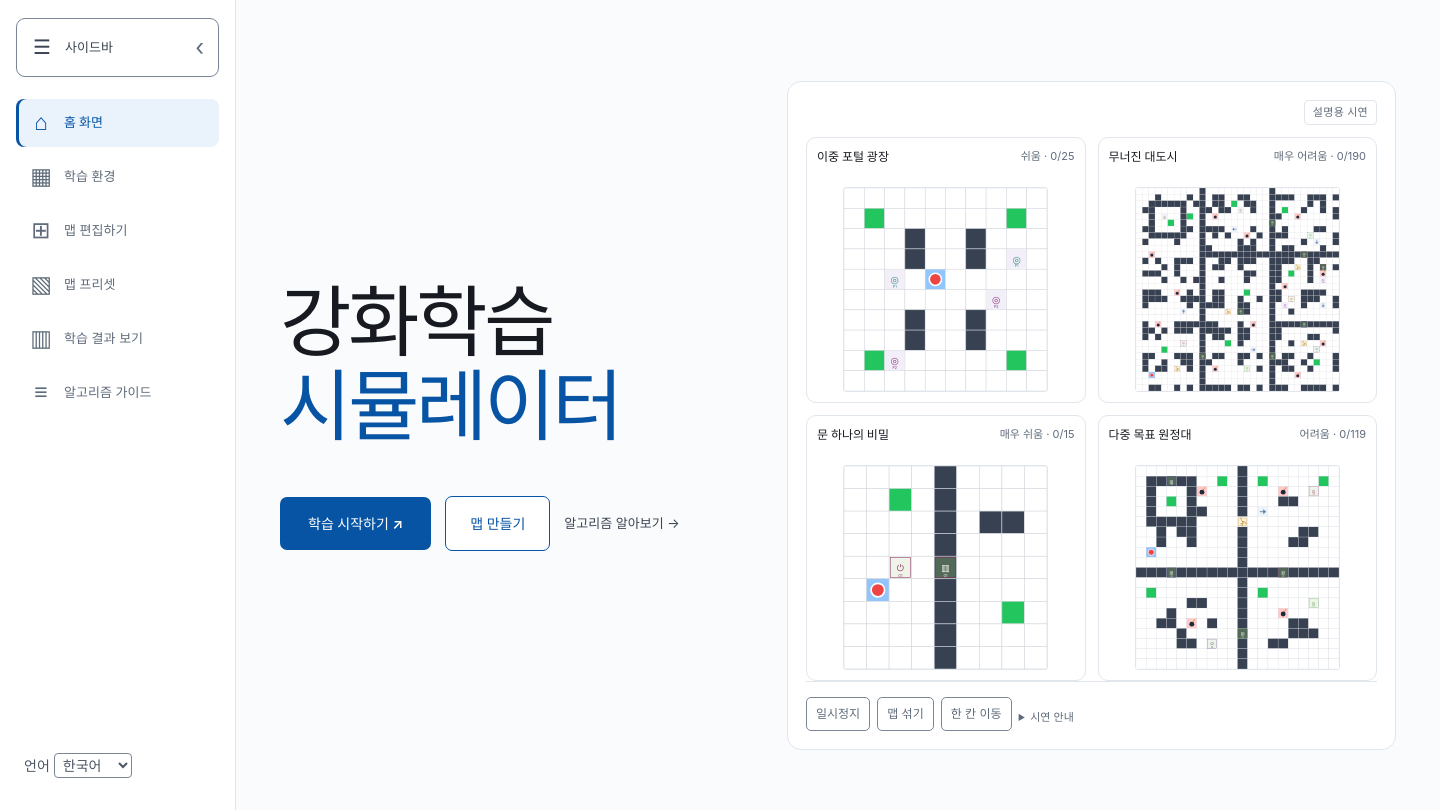
training-complete toast › Turbo Training completes with the same toast and Run policy leaves the Turbo dashboard for the grid
The width and height of the screenshot is (1440, 810).
Click the button with test id "nav-environment".
click(118, 176)  # box [16,152,219,200]
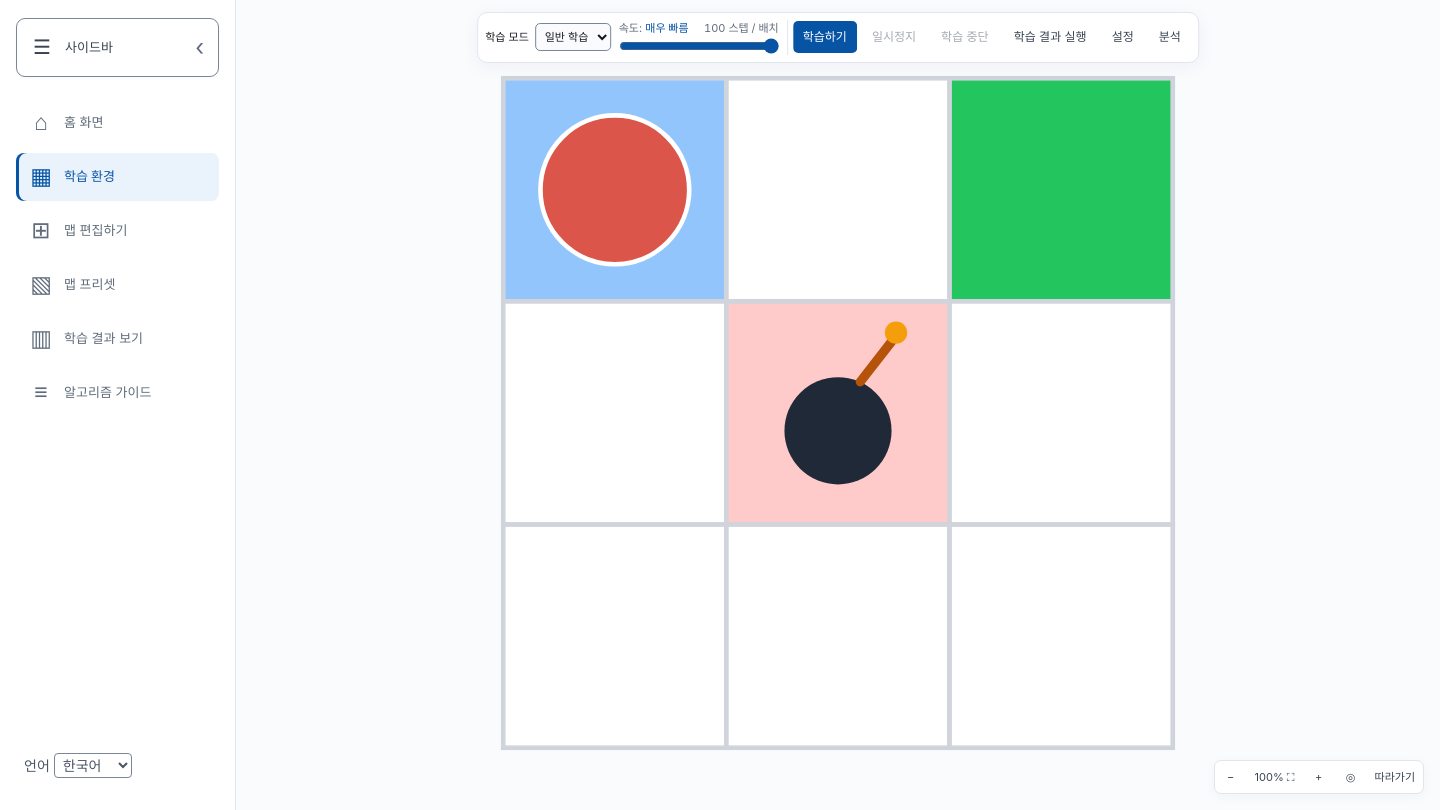
Select "고속 학습" in the dropdown with test id "training-mode" showing "학습 모드" at coordinates (573, 37), box [535,23,611,51]
Wait 4000 ms
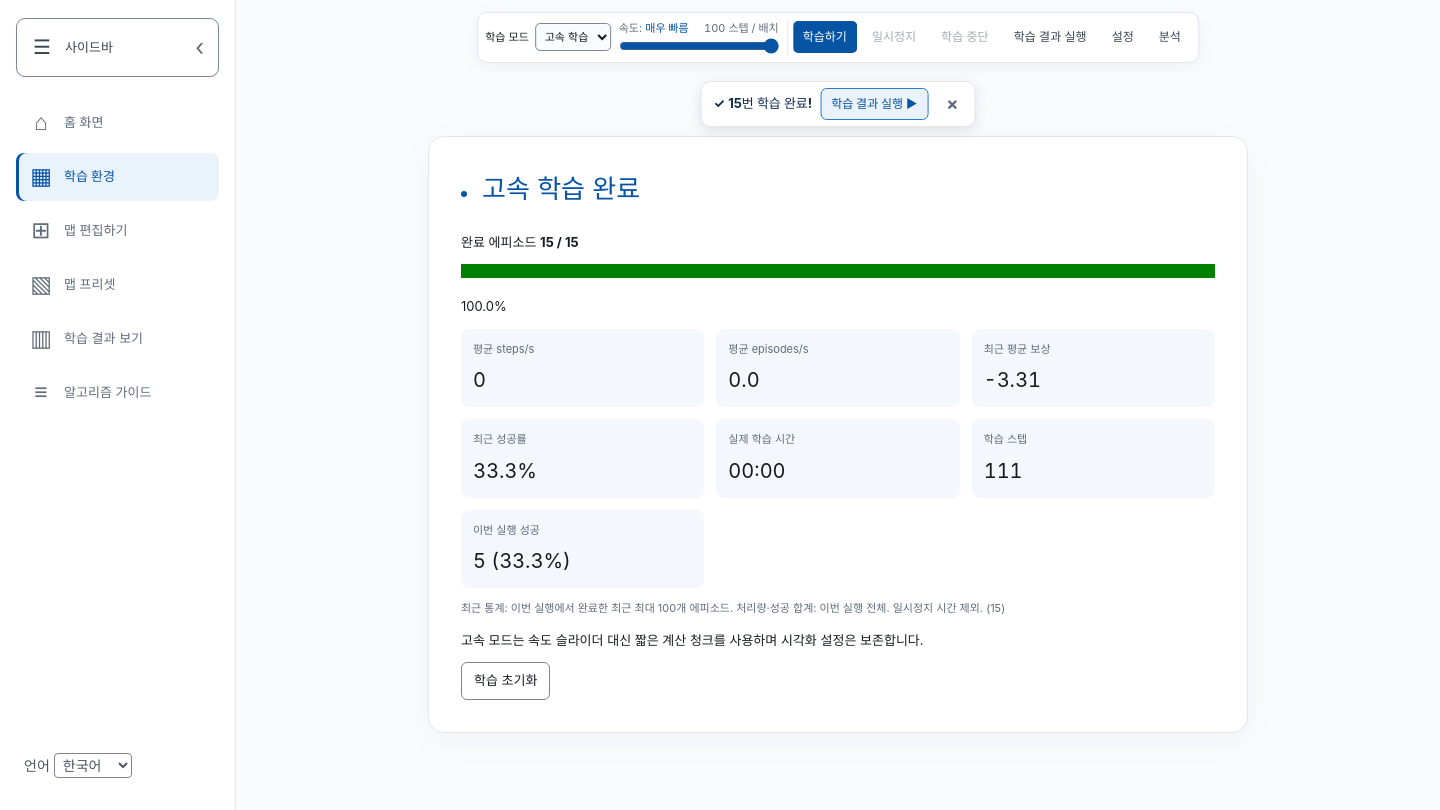
Expected: the text with test id "completion-message" reads "15번 학습 완료!", [728,95,812,111]
Click the button with test id "completion-run-policy".
click(874, 104)  # box [820,88,928,120]
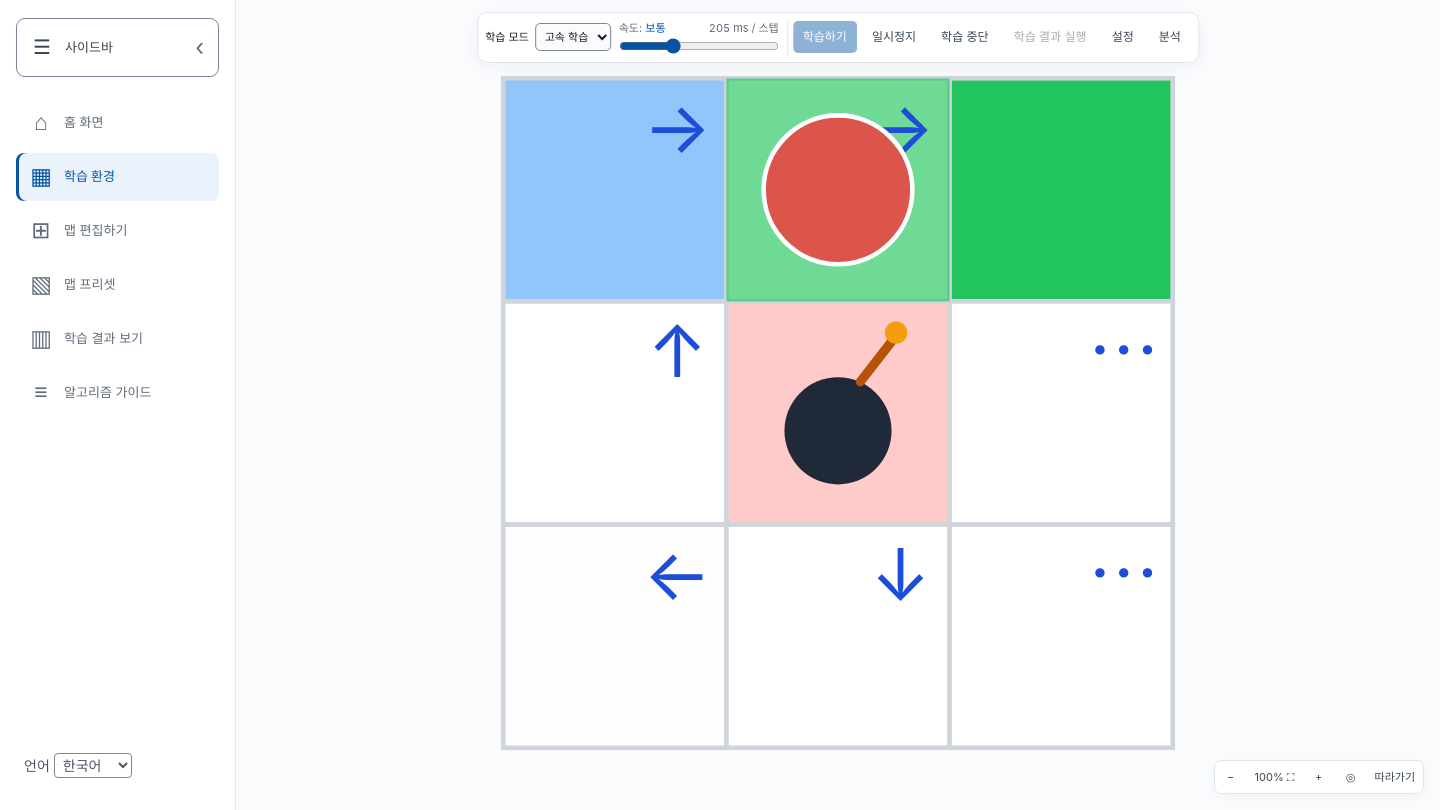
Expected: the element with test id "agent-marker" is shown, [764,116,912,264]
Expected: the element with test id "turbo-dashboard" is gone
